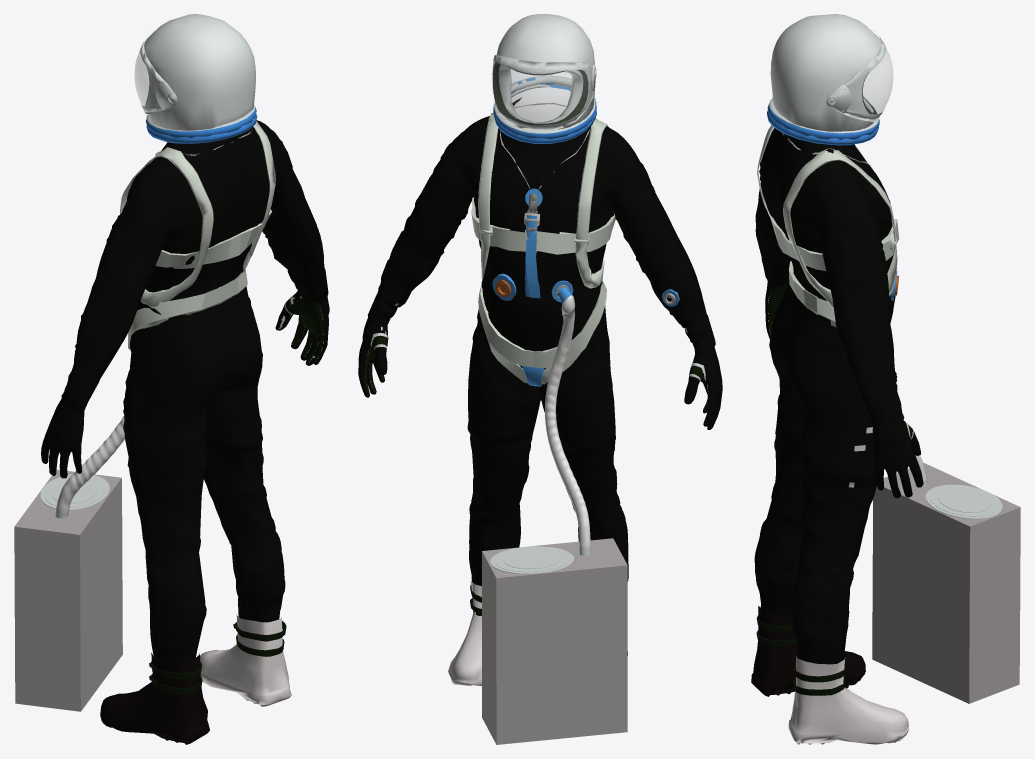
The model's file is space-gemini-spacesuit.glb.
3 views of the same model, side by side, from view 1: azimuth 30°, elevation 25°; view 2: azimuth 150°, elevation 25°; view 3: azimuth 270°, elevation 25° (orthographic). The views are drawn at different scales.
Parts seen in each view (by area): view 1: GeminiSuit:polySurface1; view 2: GeminiSuit:polySurface1; view 3: GeminiSuit:polySurface1.
Boxes of the visible parts, box(x1,y1,x2,y2) form: GeminiSuit:polySurface1: box(14, 14, 329, 744); GeminiSuit:polySurface1: box(358, 14, 722, 744); GeminiSuit:polySurface1: box(751, 14, 1020, 744).
Bounding box in the file's own units: 0.9948 × 2 × 0.7066.
6 materials, 6 textured.
